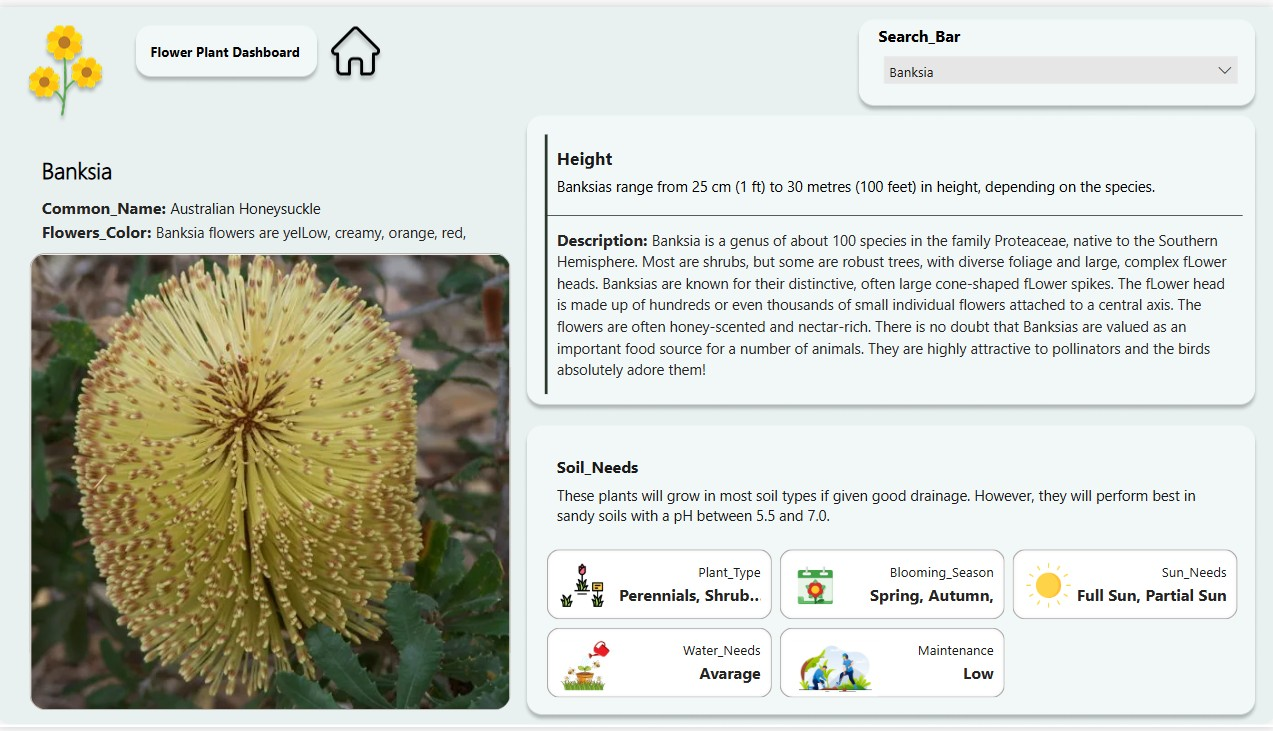

This screenshot's page, from the dashboard's own definition file:
{"tool":"powerbi","page":{"name":"Flowering_Plants","canvas":[1280,720],"ordinal":0},"visuals":[{"type":"slicer","title":"Search_Bar","fields":{"Values":["Flowers_Dataset.Flowers_Name"]},"box":[878,17,374,72],"z":0},{"type":"advancedSlicerVisual","fields":{"Values":["Flowers_Dataset.Flowers_Name"]},"box":[29,241,491,467],"z":1000},{"type":"cardVisual","fields":{"Data":["Min(Flowers_Dataset.Flowers_Name)"]},"box":[29,123,491,118],"z":2000},{"type":"shape","box":[144,26,171,36],"z":3000},{"type":"cardVisual","fields":{"Data":["Min(Flowers_Dataset.Plant_Type)","Min(Flowers_Dataset.Blooming_Season)","Min(Flowers_Dataset.Sun_Needs)","Min(Flowers_Dataset.Water_Needs)","Min(Flowers_Dataset.Maintenance)"]},"box":[544,537,704,159],"z":4000},{"type":"cardVisual","fields":{"Data":["Min(Flowers_Dataset.Soil_Needs)"]},"box":[544,431,699,106],"z":5000},{"type":"cardVisual","title":"Description","fields":{"Data":["Min(Flowers_Dataset.Height)"]},"box":[544,123,708,270],"z":6000}]}

Visuals, with their boxes in screenshot pixels (x1, y1, x2, y2), scaled from the page's 1280x720 canvas onto the 1273x731 screenshot:
"Search_Bar" slicer: {"x1": 873, "y1": 17, "x2": 1245, "y2": 90}
advancedSlicerVisual - Flowers_Dataset.Flowers_Name: {"x1": 29, "y1": 245, "x2": 517, "y2": 719}
cardVisual - Min(Flowers_Dataset.Flowers_Name): {"x1": 29, "y1": 125, "x2": 517, "y2": 245}
shape: {"x1": 143, "y1": 26, "x2": 313, "y2": 63}
cardVisual - Min(Flowers_Dataset.Plant_Type) x Min(Flowers_Dataset.Blooming_Season): {"x1": 541, "y1": 545, "x2": 1241, "y2": 707}
cardVisual - Min(Flowers_Dataset.Soil_Needs): {"x1": 541, "y1": 438, "x2": 1236, "y2": 545}
"Description" cardVisual: {"x1": 541, "y1": 125, "x2": 1245, "y2": 399}
